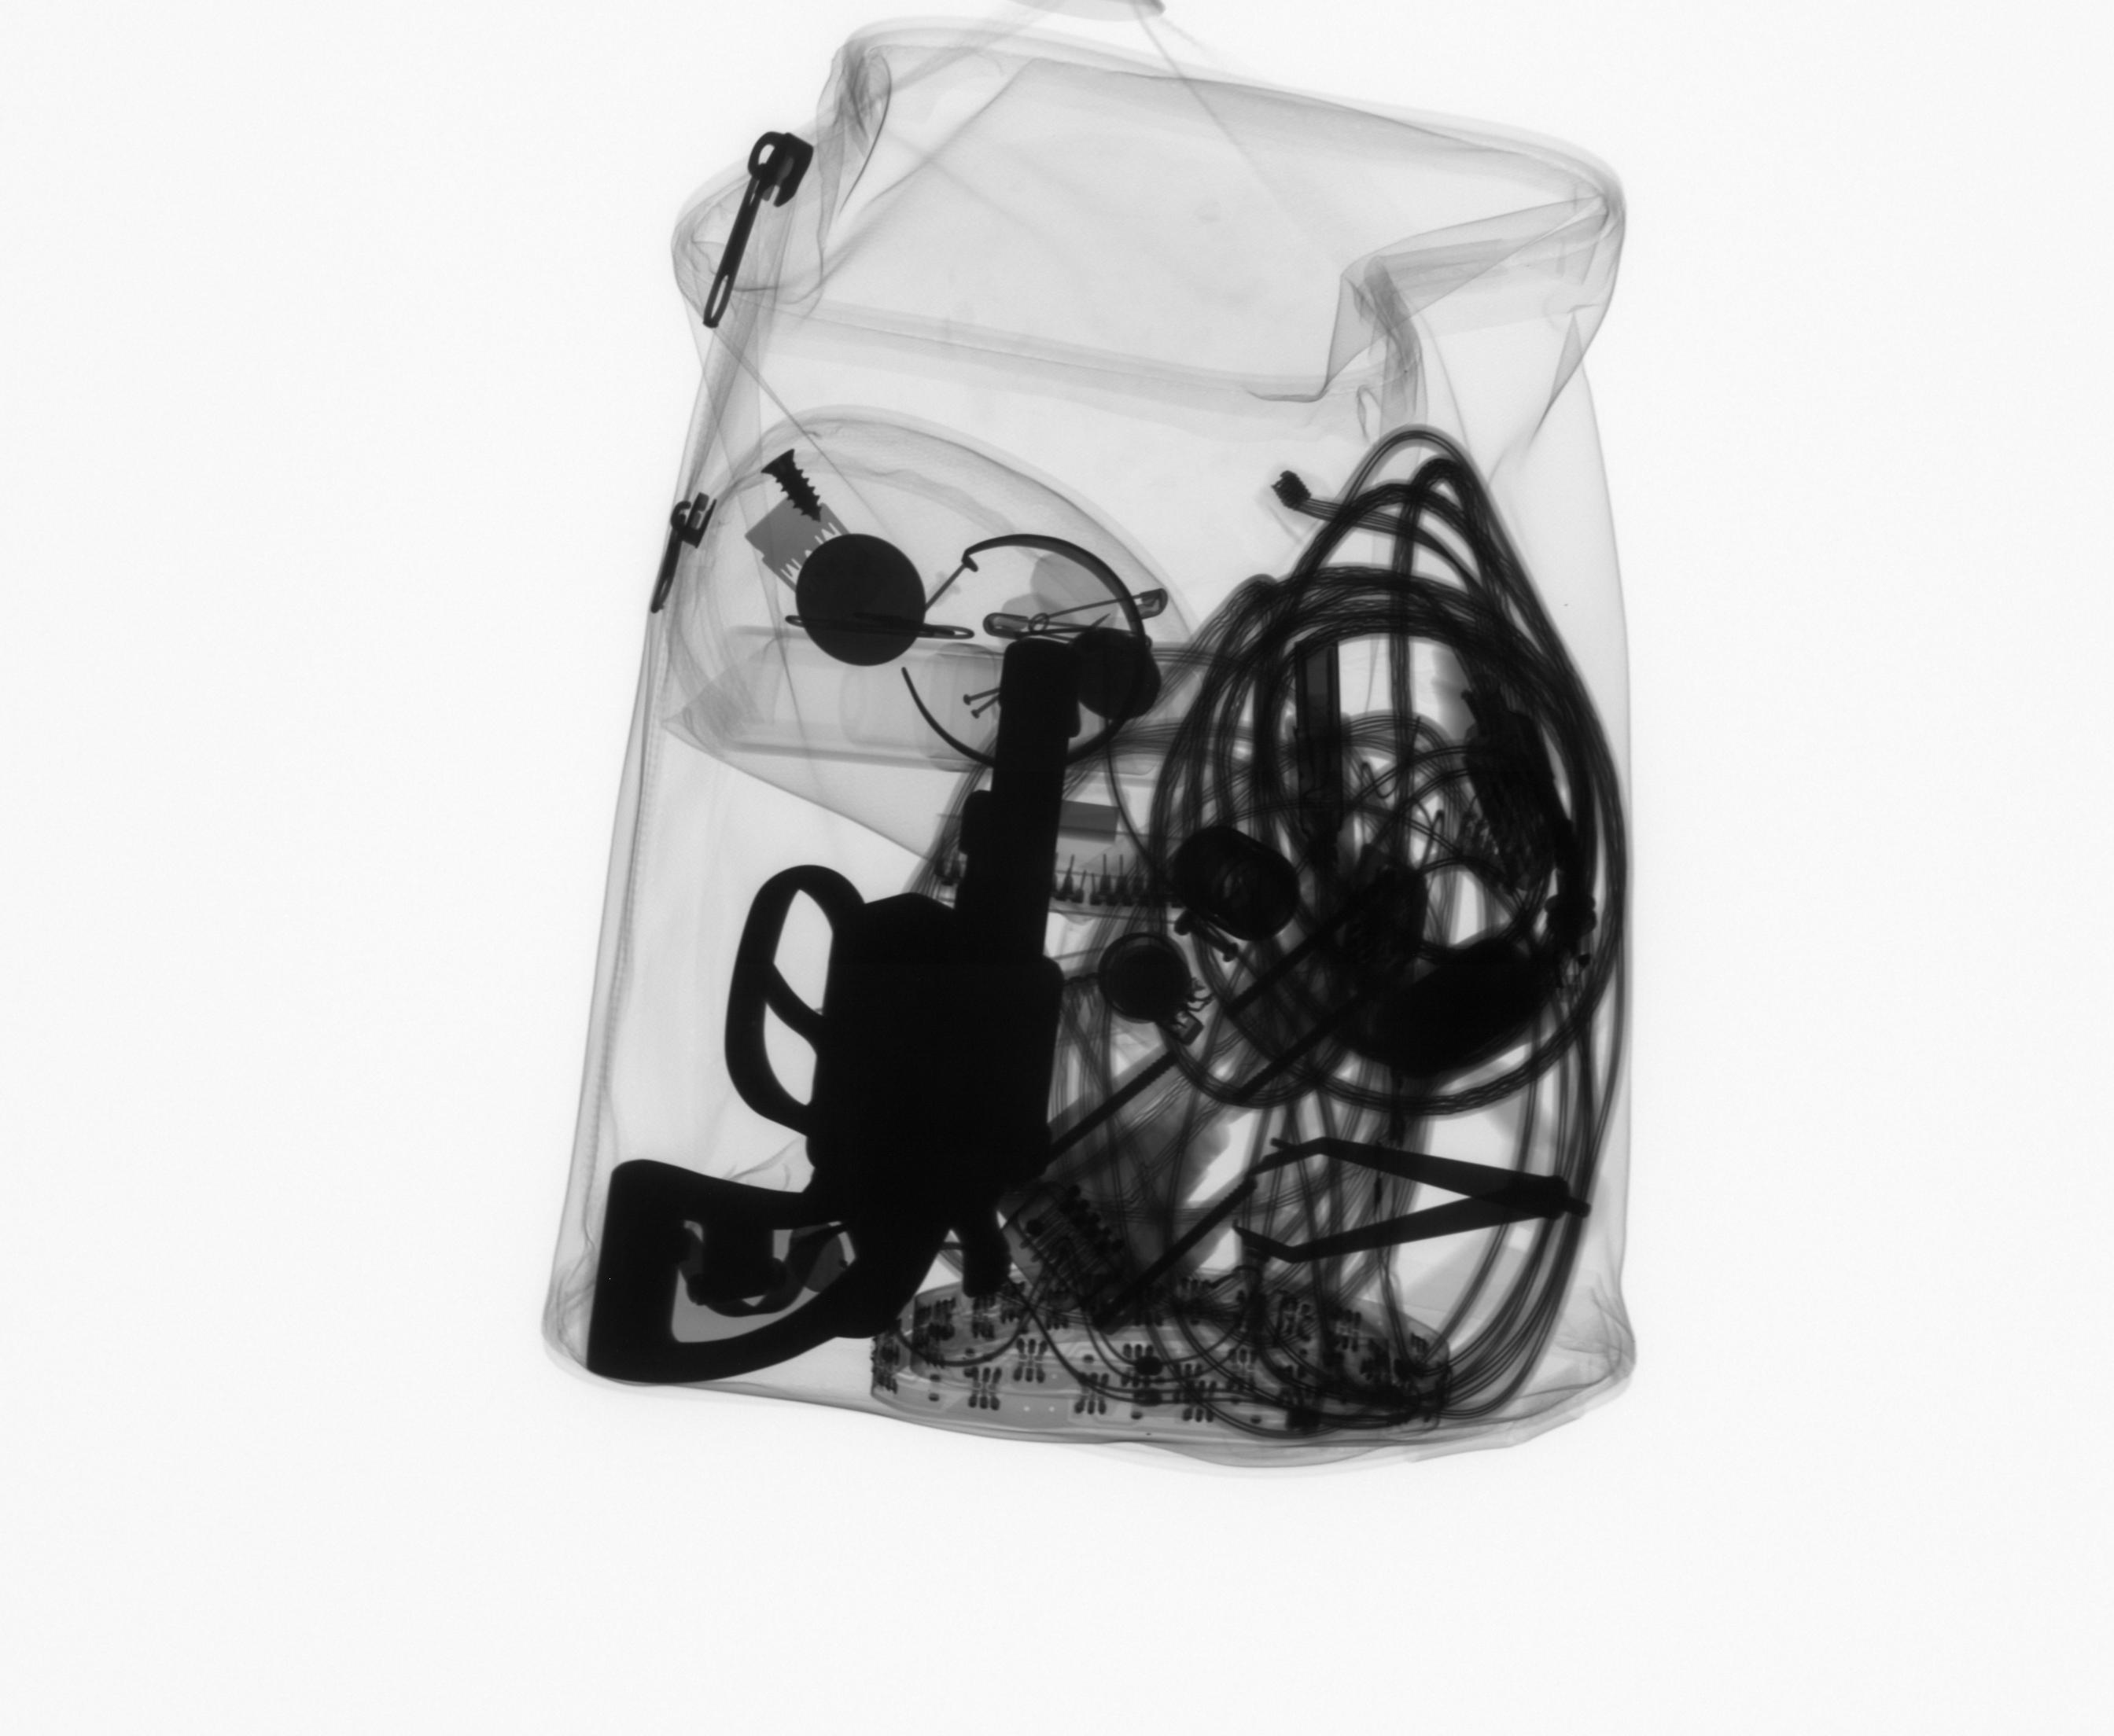Handgun: (585, 626, 1092, 1403)
